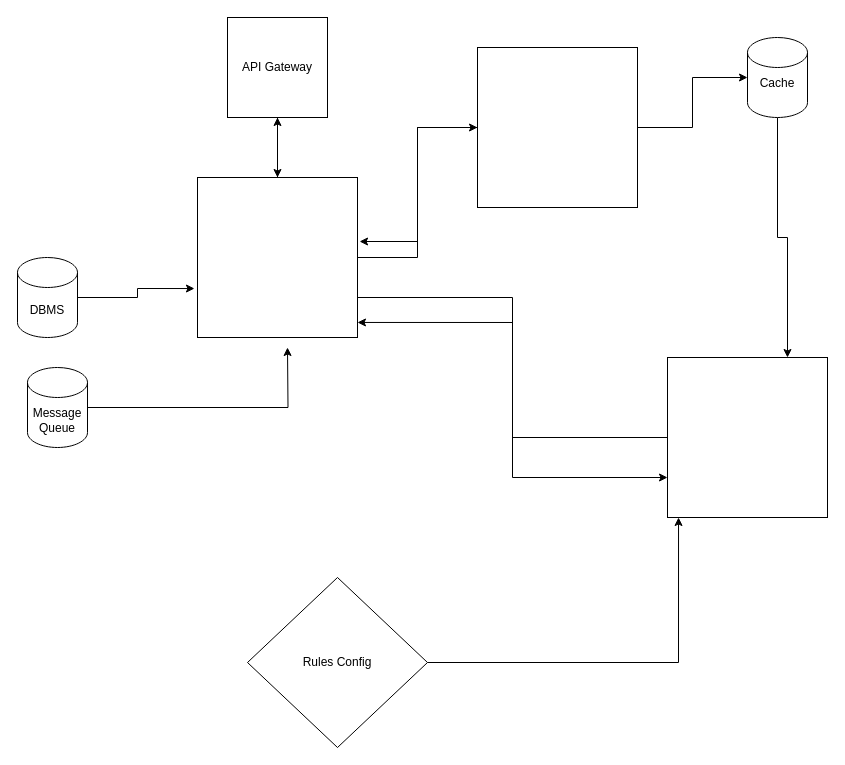
Image size: 845x765. Some labels were removed from this diagram. The shapes that lost their labels are listed below. From the top down, each one's box as (x1, y1, x2, y2) in pixels, then its label:
(476, 46, 638, 208): Social Media Data (for example TWITTER API)
(196, 176, 358, 338): Spam Detection Service
(666, 356, 828, 518): Rules Engine
